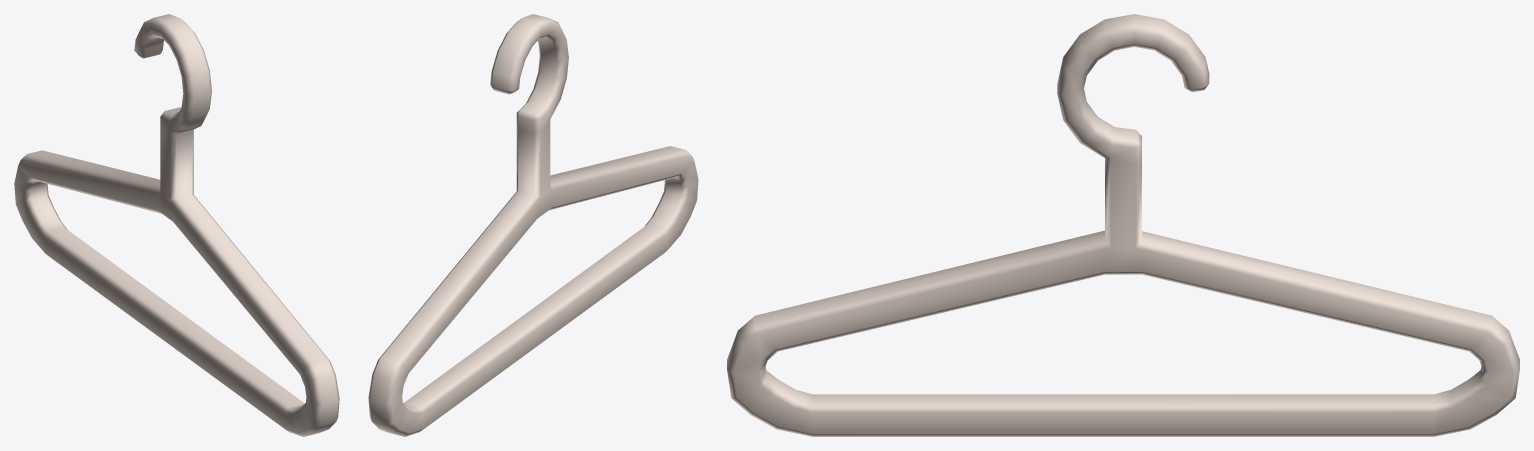
The model's file is Clothes_hanger_4.glb.
3 views of the same model, side by side, from view 1: azimuth 30°, elevation 25°; view 2: azimuth 150°, elevation 25°; view 3: azimuth 270°, elevation 25° (orthographic). The views are drawn at different scales.
Parts seen in each view (by area): view 1: Clothes_hanger_4; view 2: Clothes_hanger_4; view 3: Clothes_hanger_4.
Part boxes in pixels (left/top/right/bottom): Clothes_hanger_4: left=14, top=14, right=339, bottom=436; Clothes_hanger_4: left=368, top=14, right=698, bottom=436; Clothes_hanger_4: left=727, top=14, right=1519, bottom=436.
Size of the model in its own units: 0.017 by 0.2179 by 0.3789.
1 material, 1 textured.
